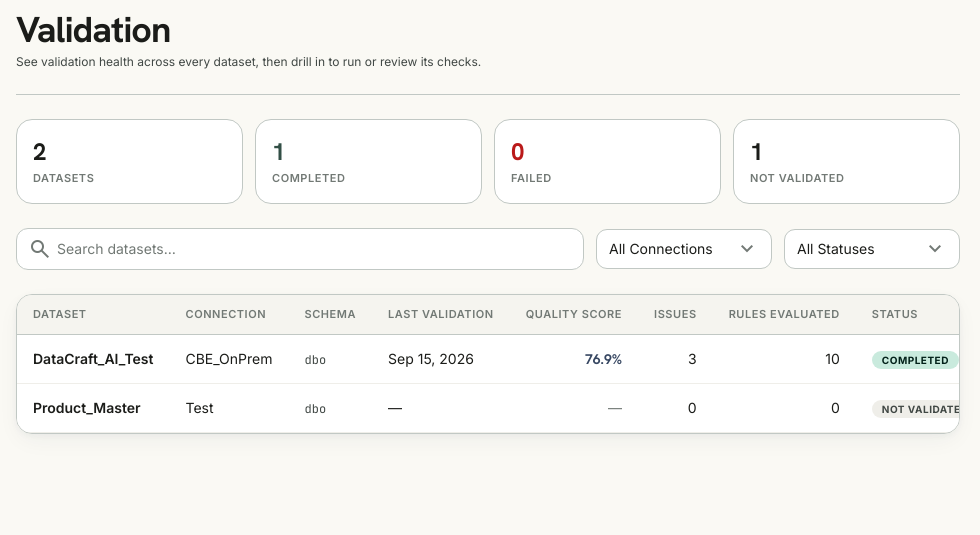
Test: ValidationMasterView › filters by status
Click the button with aria-label "Filter by status". click: (872, 248)
box: [784, 228, 960, 268]
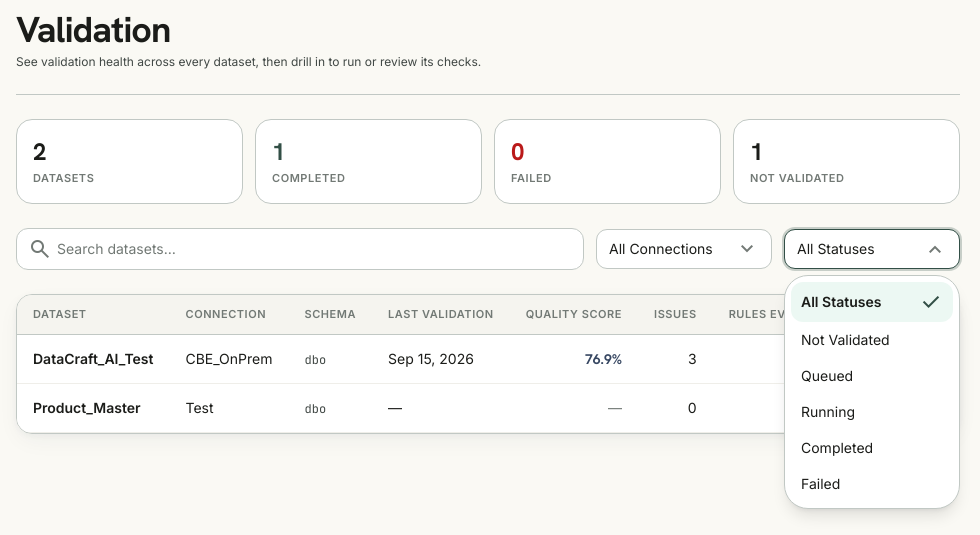
Click the option "Not Validated". click: (845, 339)
box: [801, 330, 890, 348]
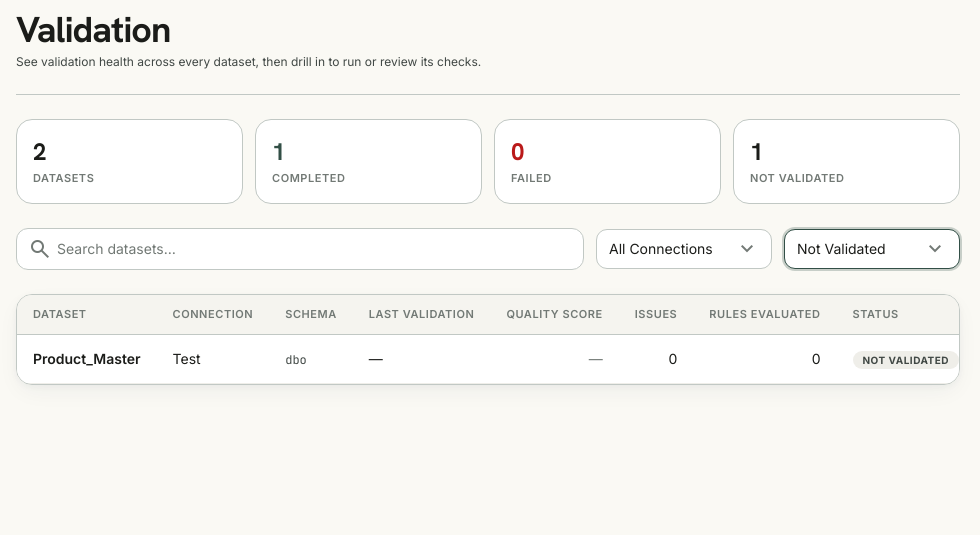
Expected: the text "Product_Master" is shown, [33, 350, 140, 367]
Result: the button "DataCraft_AI_Test" is gone
